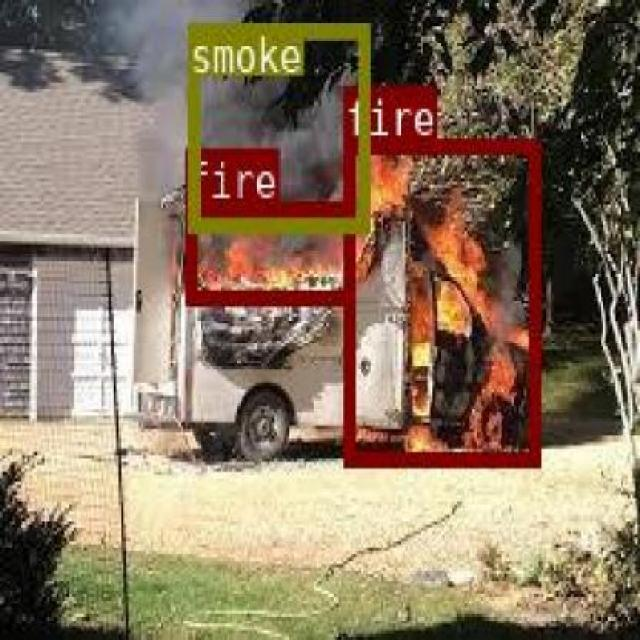Fire: (342, 137, 536, 465), (184, 198, 353, 304)
Smoke: (186, 22, 366, 230)
